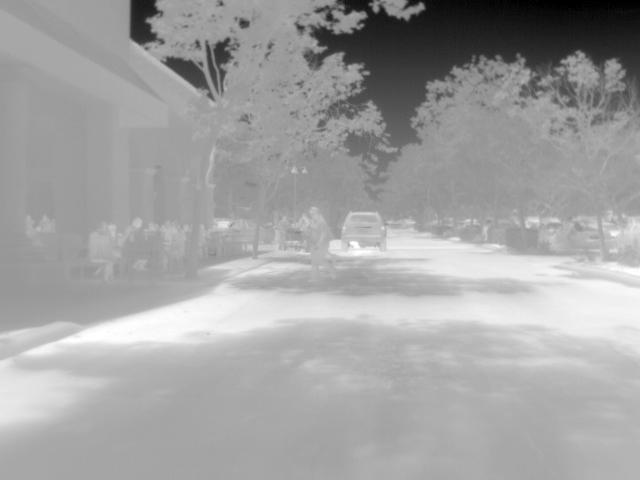car: (340, 211, 386, 251), (555, 221, 611, 253), (229, 218, 255, 243), (538, 221, 564, 245), (258, 226, 275, 243)
person: (306, 212, 340, 285), (85, 221, 118, 283), (163, 222, 188, 272), (122, 216, 144, 244), (275, 214, 293, 248), (109, 223, 125, 258), (25, 213, 39, 239), (37, 213, 53, 232)
